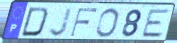8: (121, 8, 142, 39)
D: (19, 6, 50, 38)
E: (140, 8, 172, 38)
F: (69, 8, 99, 38)
J: (48, 7, 74, 38)
O: (94, 8, 120, 39)
